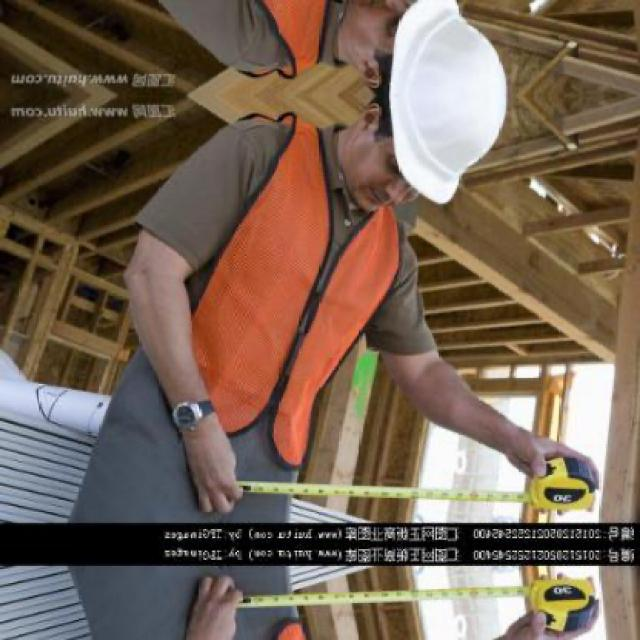helmet: (315, 97, 514, 225), (316, 0, 516, 96)
